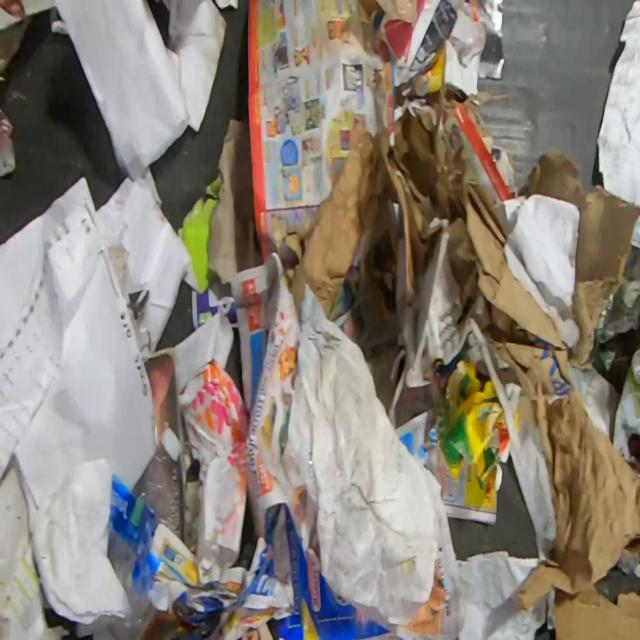cardboard: (283, 83, 640, 406), (94, 166, 198, 366), (552, 586, 640, 640)
rigid_plastic: (104, 424, 184, 640)
